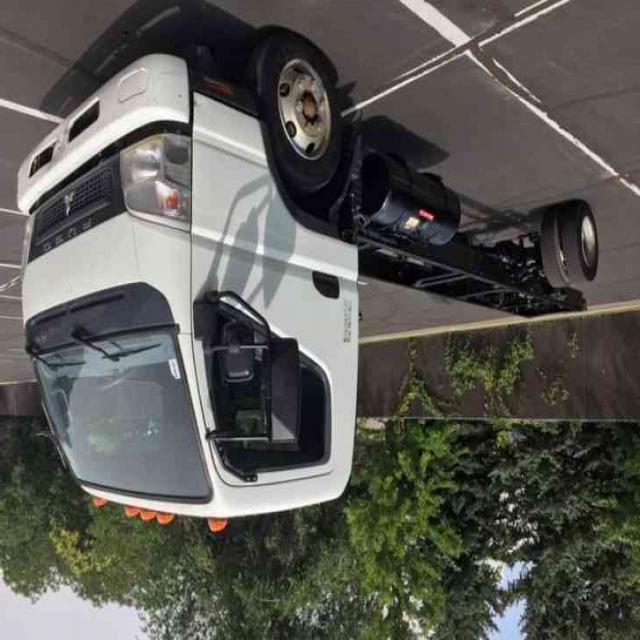truck: (18, 37, 600, 530)
